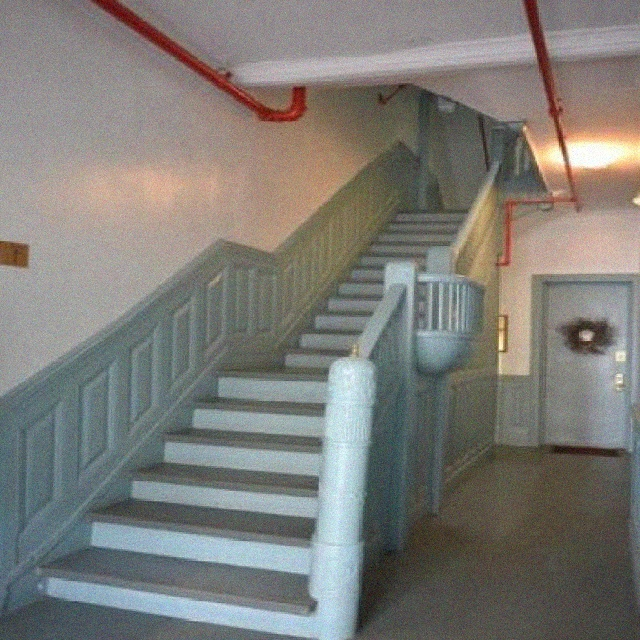stair: (2, 147, 568, 636)
